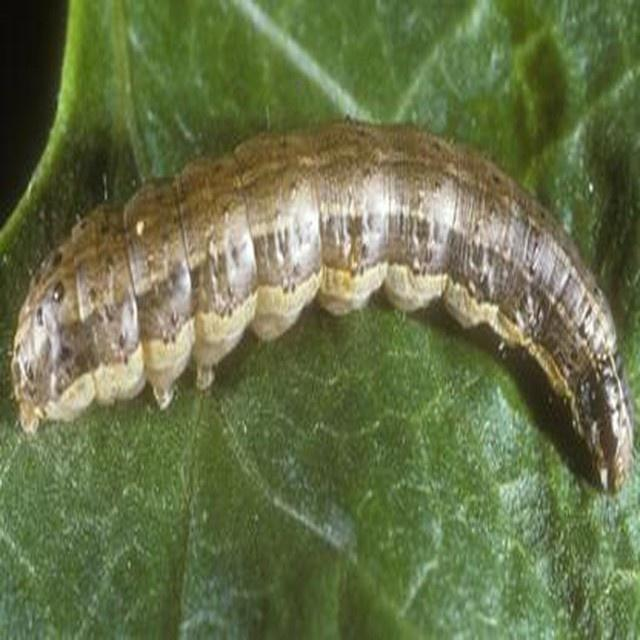gusano_cogollero: (8, 116, 640, 497)
